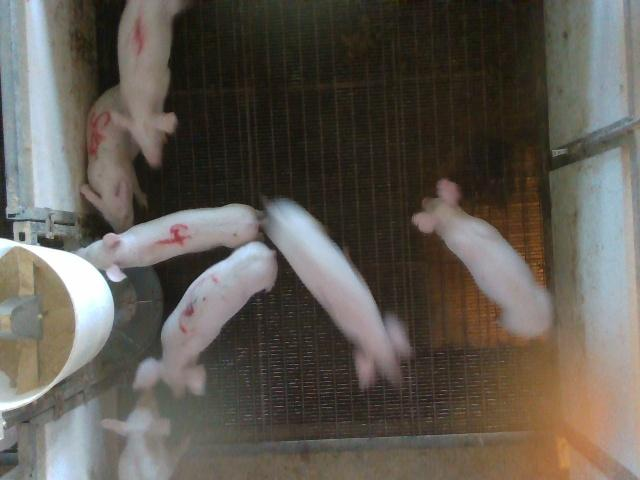pig-1: (112, 0, 188, 168)
pig-2: (264, 200, 410, 388)
pig-3: (135, 241, 278, 396)
pig-4: (75, 204, 260, 281)
pig-5: (81, 85, 148, 232)
